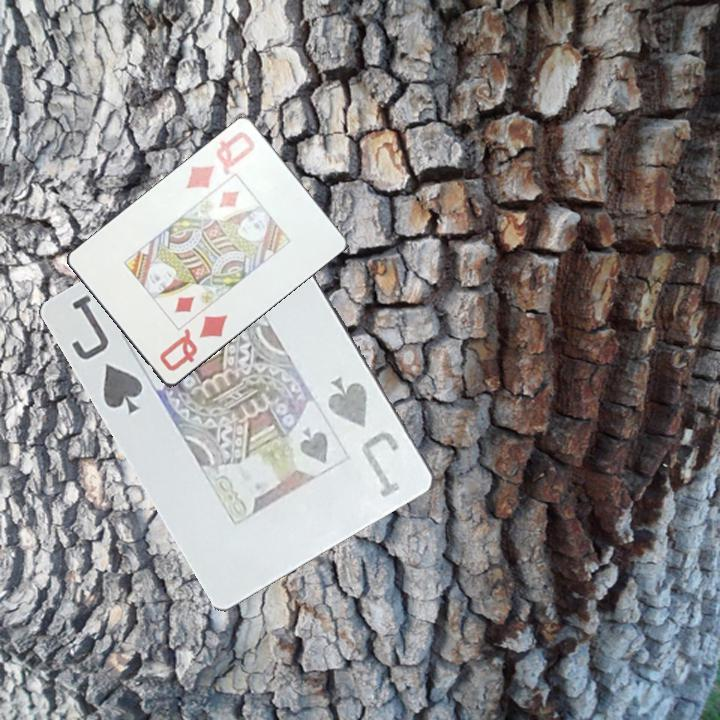Js: (68, 291, 149, 418), (324, 373, 404, 501)
Qd: (182, 128, 258, 192), (156, 312, 230, 374)
